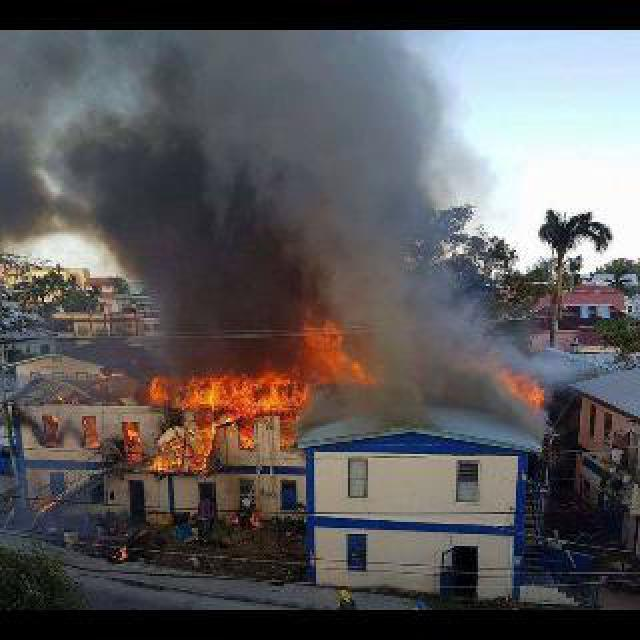Fire: (106, 371, 311, 468), (306, 306, 375, 396), (499, 358, 559, 418)
Smoke: (0, 80, 332, 372), (322, 266, 538, 451)
